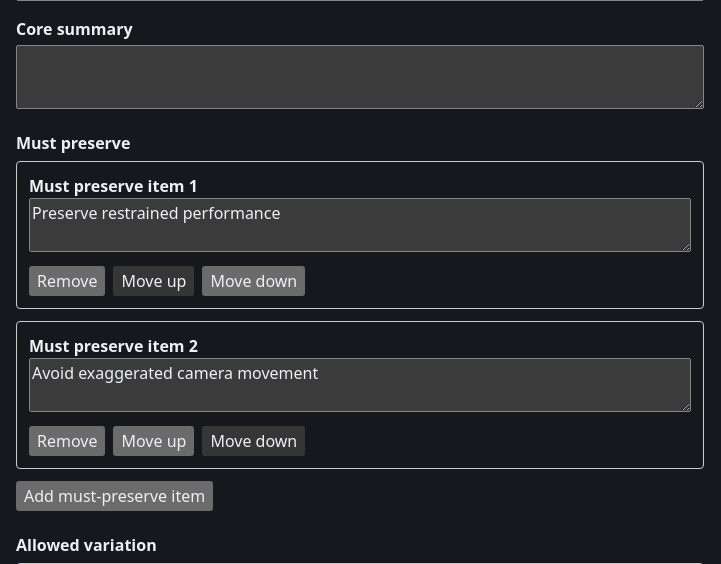
Test: ShotAnchorPage › Core Anchor semantic collections (Step 1A-UI) › restores original semantic values and ordering when Cancel is clicked
(page scrolled)
Step 1. Replace the text in the text box labelled "Must preserve item 1" with "Temporary edit" → (360, 225), box [29,198,691,252]
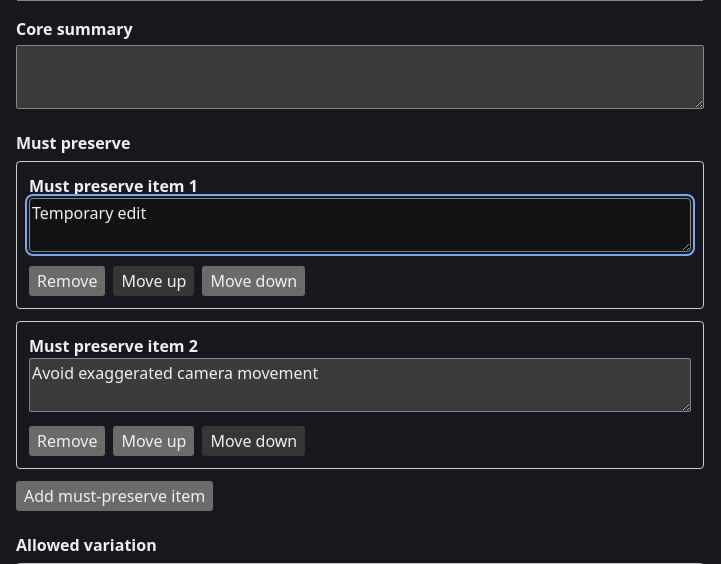
Step 2. Click the button "Add must-preserve item" → (115, 496), box [16,481,213,511]
(page scrolled)
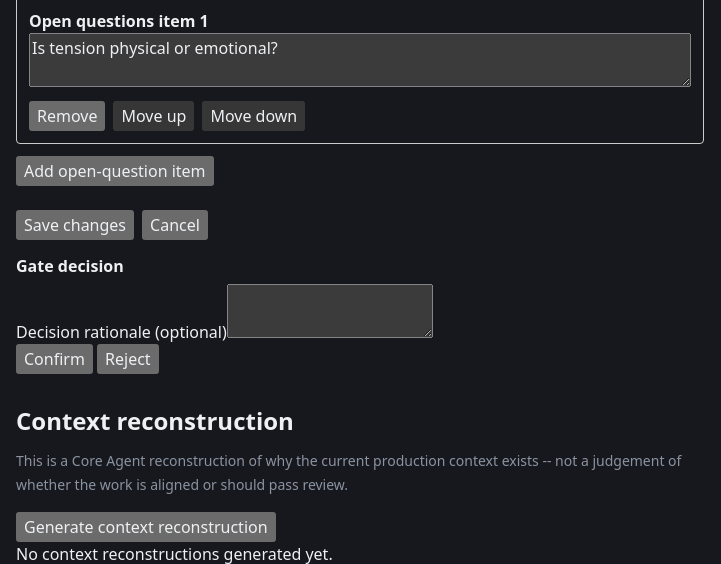
Step 3. Click the button "Cancel" → (175, 225), box [142,210,208,240]
(page scrolled)
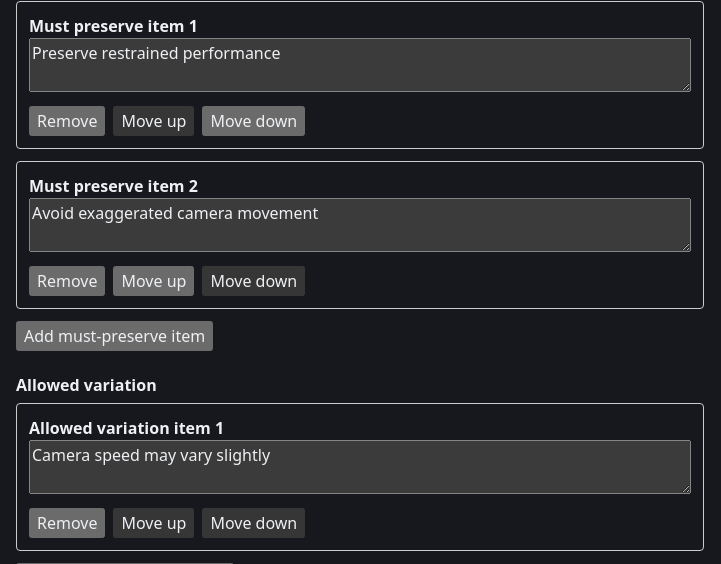
expect the text box labelled "Must preserve item 2" holds "Avoid exaggerated camera movement": met, box [29,198,691,252]
expect the text box labelled "Must preserve item 1" holds "Preserve restrained performance": met, box [29,38,691,92]
